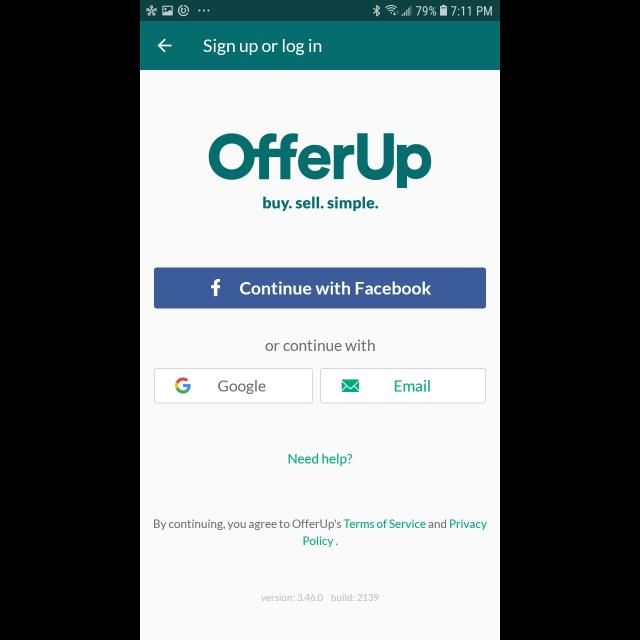icon: (158, 39, 172, 53)
text: (208, 133, 432, 189), (154, 519, 486, 547), (204, 40, 322, 56), (262, 196, 378, 212), (265, 340, 375, 352), (261, 594, 379, 602), (289, 454, 353, 466)
textbutton: (154, 268, 486, 308), (320, 368, 486, 404), (154, 368, 314, 404)
uppertaskbar: (140, 1, 500, 22)
